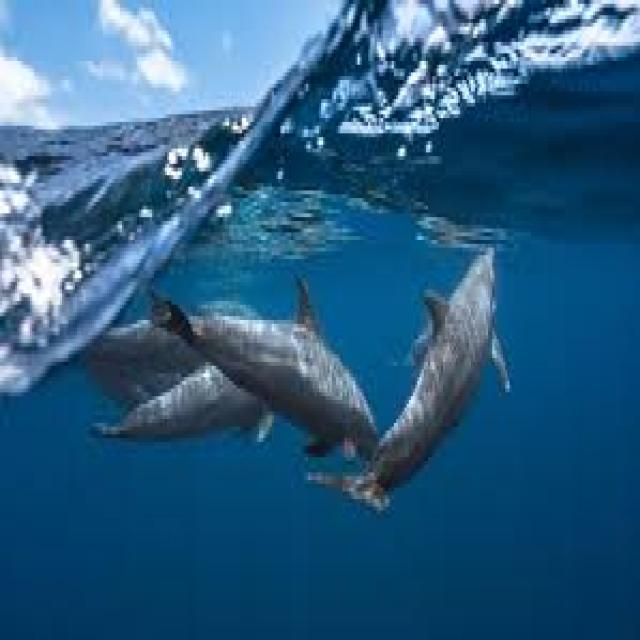dolphin: (366, 221, 512, 529), (174, 294, 372, 476)
